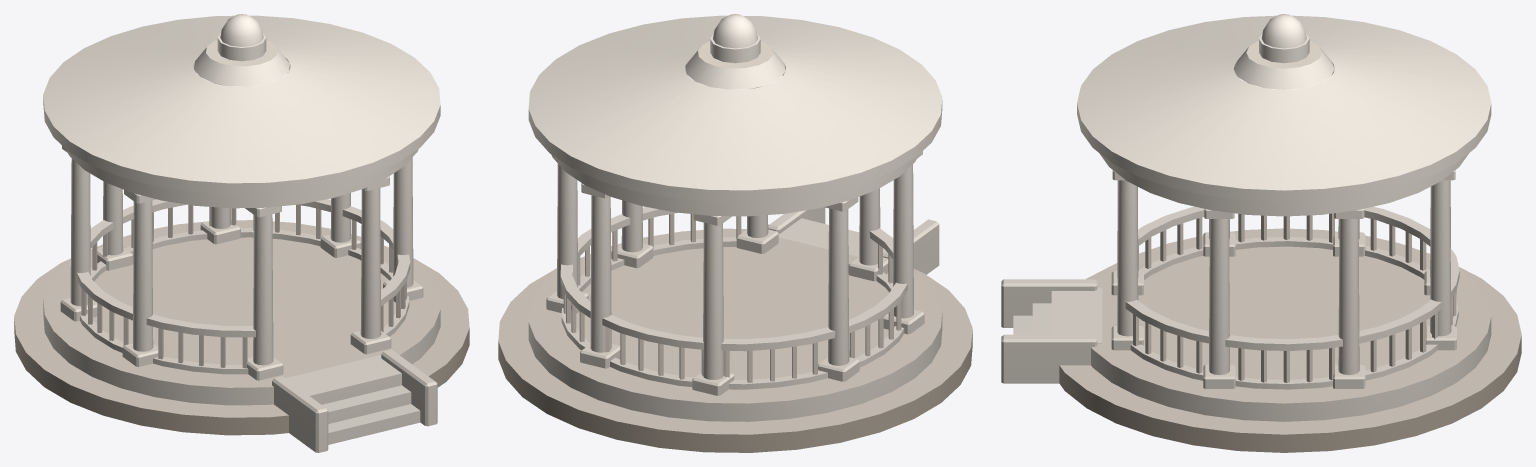
The model's file is lm_gazebo.glb.
The picture shows the model from 3 angles, left to right: view 1: azimuth 30°, elevation 25°; view 2: azimuth 150°, elevation 25°; view 3: azimuth 270°, elevation 25°; orthographic projection. The views are drawn at different scales.
Visible parts, largest first — view 1: gazebo; view 2: gazebo; view 3: gazebo.
Boxes of the visible parts, <box> form: gazebo: <box>14,14,469,452</box>; gazebo: <box>498,14,972,452</box>; gazebo: <box>1001,14,1521,452</box>.
Bounding box in the file's own units: 6.6 × 5.16 × 7.23.
1 material, 1 textured.
